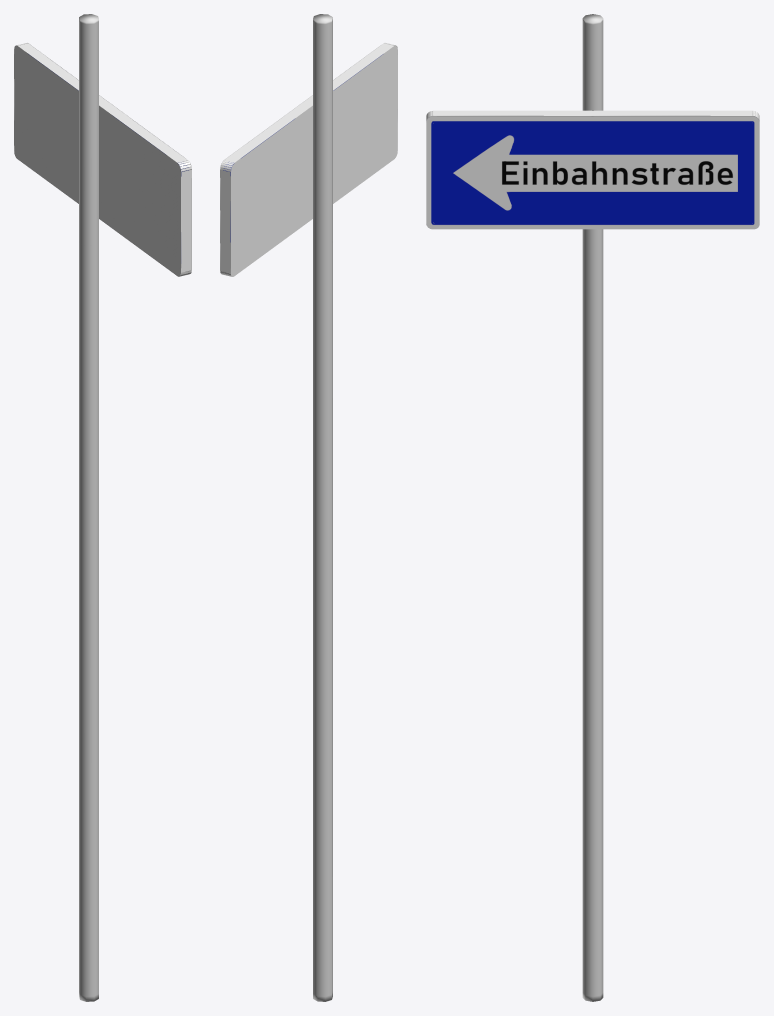
The model's file is sign_one_way_left.glb.
The picture shows the model from 3 angles, left to right: view 1: azimuth 30°, elevation 25°; view 2: azimuth 150°, elevation 25°; view 3: azimuth 270°, elevation 25°; orthographic projection.
Visible parts, largest first — view 1: pole, oneway_left; view 2: pole, oneway_left; view 3: oneway_left, pole.
Part boxes in pixels (x1,y1,x2,y2): pole: (79,14,98,1001); oneway_left: (14,43,191,276); pole: (313,14,332,1001); oneway_left: (220,43,397,276); oneway_left: (426,110,759,229); pole: (582,14,603,1001).
Bounding box in the file's own units: 0.0785 × 2.59 × 0.8.
2 materials, 1 textured.
